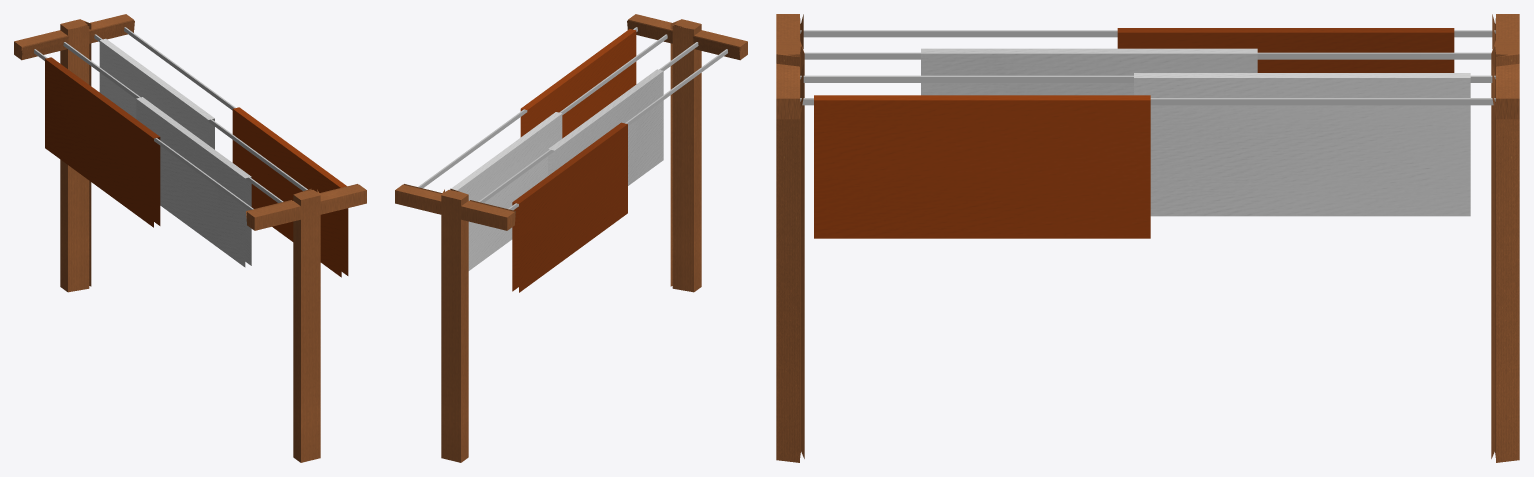
The model's file is Jemuran.fbx.
3 renders of one model, left to right at view 1: azimuth 30°, elevation 25°; view 2: azimuth 150°, elevation 25°; view 3: azimuth 270°, elevation 25°, orthographic. The views are drawn at different scales.
Visible parts, largest first — view 1: Jemuran, Baju, Baju.003, Baju.001, Baju.002; view 2: Jemuran, Baju, Baju.002, Baju.003, Baju.001; view 3: Baju.001, Baju.002, Jemuran, Baju.003, Baju.
Part boxes in pixels (<box>): Jemuran: <box>14,14,366,462</box>; Baju: <box>45,57,160,227</box>; Baju.003: <box>136,97,251,267</box>; Baju.001: <box>232,107,348,277</box>; Baju.002: <box>99,38,214,149</box>; Jemuran: <box>395,14,747,462</box>; Baju: <box>512,122,627,292</box>; Baju.002: <box>449,112,562,270</box>; Baju.003: <box>548,69,663,185</box>; Baju.001: <box>520,29,636,138</box>; Baju.001: <box>814,95,1150,238</box>; Baju.002: <box>1134,73,1470,216</box>; Jemuran: <box>776,14,1519,462</box>; Baju.003: <box>921,48,1257,95</box>; Baju: <box>1117,28,1454,72</box>.
Bounding box in the file's own units: 2.62 × 5.87 × 9.75.
